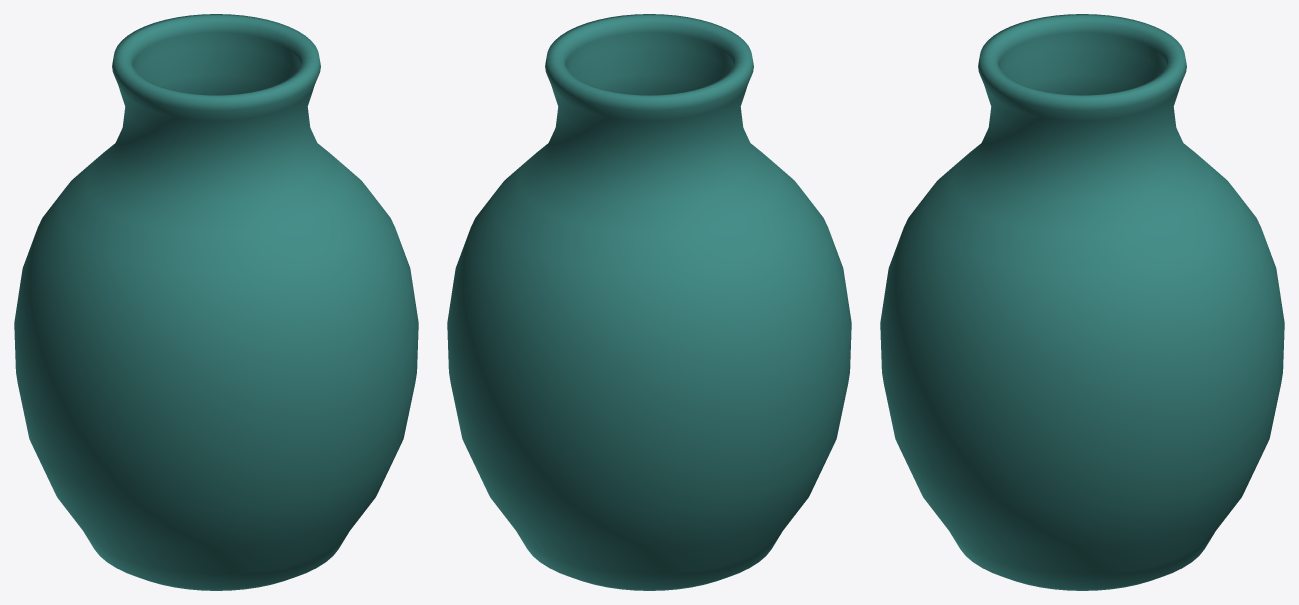
Rendered from ceramic-vase.glb.
The picture shows the model from 3 angles, left to right: view 1: azimuth 30°, elevation 25°; view 2: azimuth 150°, elevation 25°; view 3: azimuth 270°, elevation 25°; orthographic projection.
Visible parts, largest first — view 1: Ceramic vase; view 2: Ceramic vase; view 3: Ceramic vase.
Part boxes in pixels (bbox=[...]): Ceramic vase: bbox=[14, 14, 418, 590]; Ceramic vase: bbox=[447, 14, 851, 590]; Ceramic vase: bbox=[880, 14, 1284, 590].
Size of the model in its own units: 0.24 by 0.32 by 0.24.
